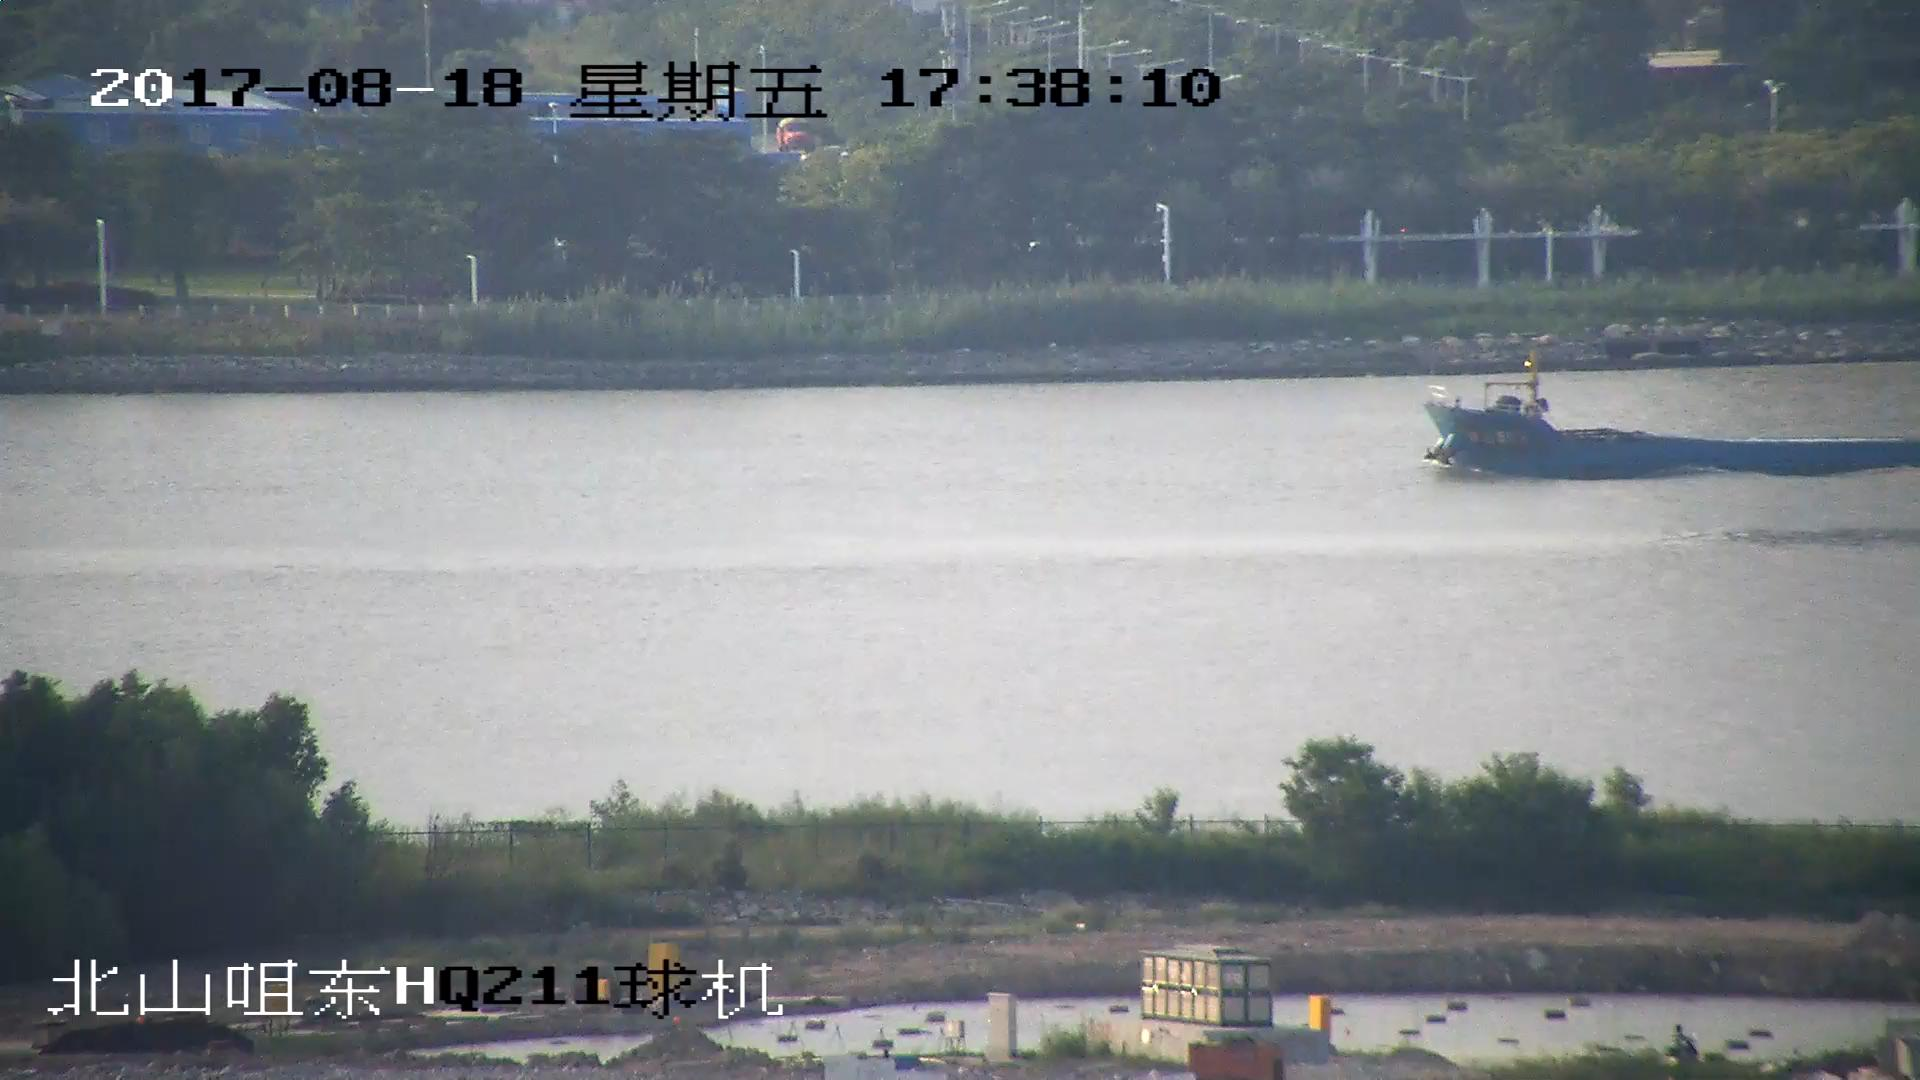general cargo ship: (1414, 346, 1920, 479)
